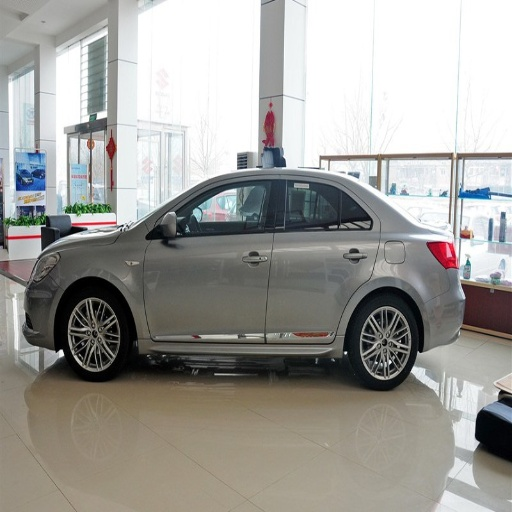back_left_door: (266, 175, 380, 339)
front_left_door: (143, 178, 276, 338)
